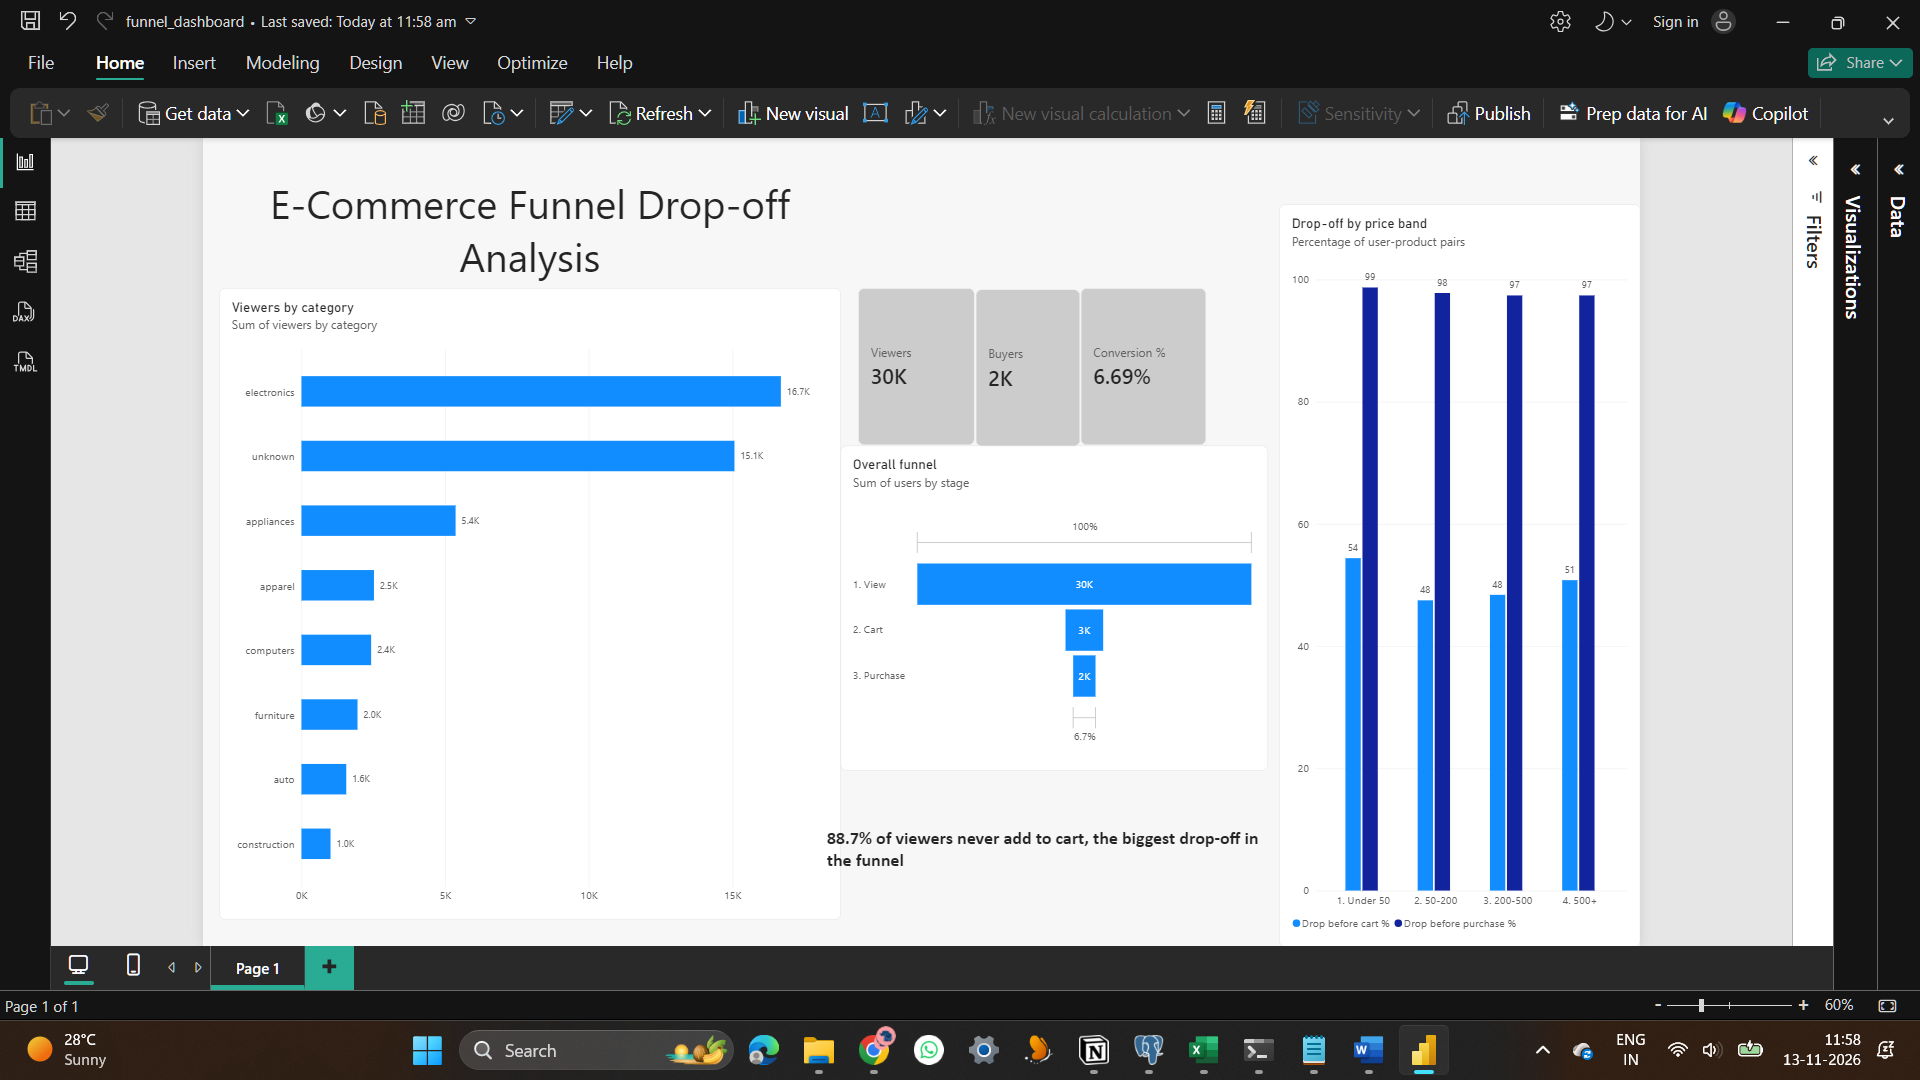

What the dashboard file says about the page in this screenshot:
{"tool":"powerbi","page":{"name":"Page 1","canvas":[1920,1080],"ordinal":0},"visuals":[{"type":"clusteredBarChart","title":"Viewers by category","fields":{"Category":["category.category"],"Y":["Sum(category.viewers)"]},"box":[22,200,830,844],"z":0},{"type":"funnel","title":"Overall funnel","fields":{"Category":["funnel.stage"],"Y":["Sum(funnel.users)"]},"box":[851.6,410.8,571.1,434.1],"z":1000},{"type":"cardVisual","fields":{"Data":["funnel.Buyers"]},"box":[1031.5,202,140,210],"z":2000},{"type":"cardVisual","fields":{"Data":["funnel.Conversion %"]},"box":[1172,200,168,210],"z":3000},{"type":"cardVisual","fields":{"Data":["funnel.Viewers"]},"box":[875,200.4,156,210],"z":4000},{"type":"clusteredColumnChart","title":"Drop-off by price band","fields":{"Category":["price_band.price_band"],"Y":["Avg(price_band.drop_cart_to_buy_pct)","Avg(price_band.drop_view_to_cart_pct)"]},"box":[1438,88,482,992],"z":5000},{"type":"textbox","box":[22,50,830,150],"z":6000},{"type":"textbox","box":[833.2,920,589.4,93.5],"z":6001}]}

Visuals, with their boxes in screenshot pixels (x1, y1, x2, y2):
"Viewers by category" clusteredBarChart: x1=26 y1=135 x2=815 y2=938
"Overall funnel" funnel: x1=815 y1=336 x2=1358 y2=749
cardVisual - funnel.Buyers: x1=986 y1=137 x2=1119 y2=337
cardVisual - funnel.Conversion %: x1=1120 y1=135 x2=1280 y2=335
cardVisual - funnel.Viewers: x1=837 y1=136 x2=986 y2=335
"Drop-off by price band" clusteredColumnChart: x1=1373 y1=29 x2=1831 y2=972
textbox: x1=26 y1=0 x2=815 y2=135
textbox: x1=798 y1=820 x2=1358 y2=909
